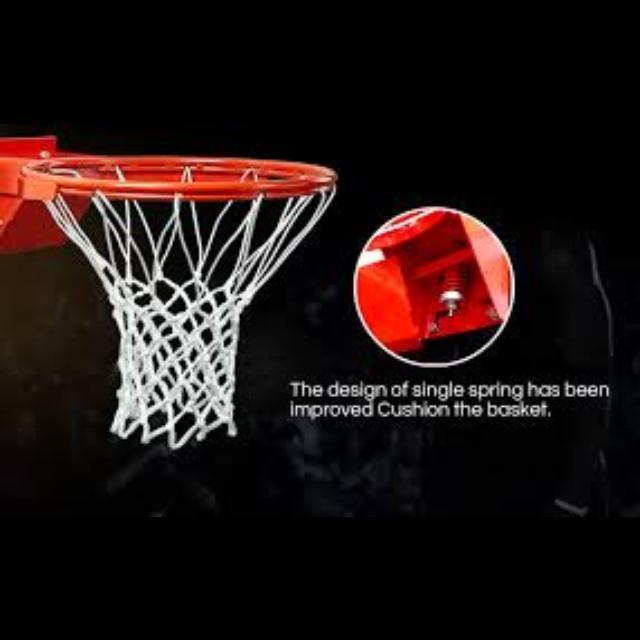rim: (26, 154, 338, 450)
